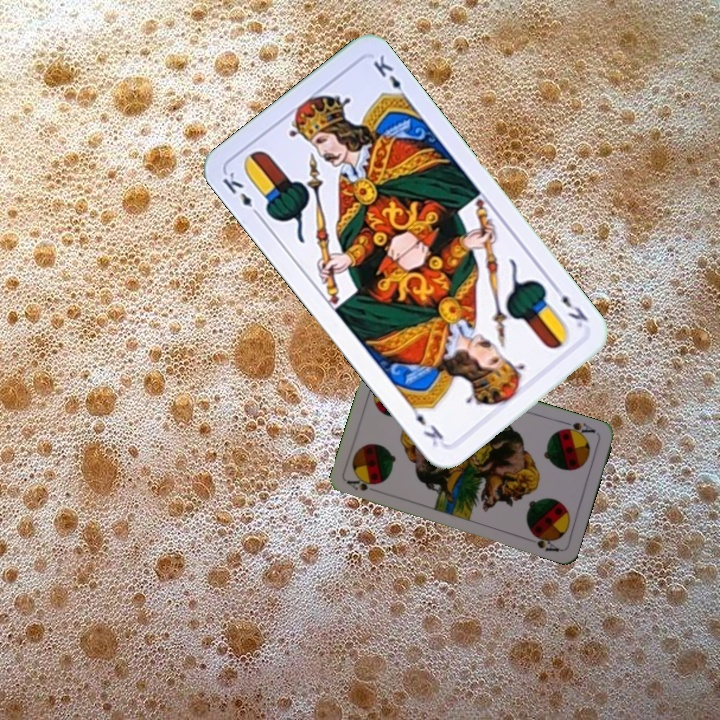EK: (218, 167, 264, 221), (548, 281, 591, 330)
SA: (558, 417, 598, 440), (343, 474, 383, 495)
